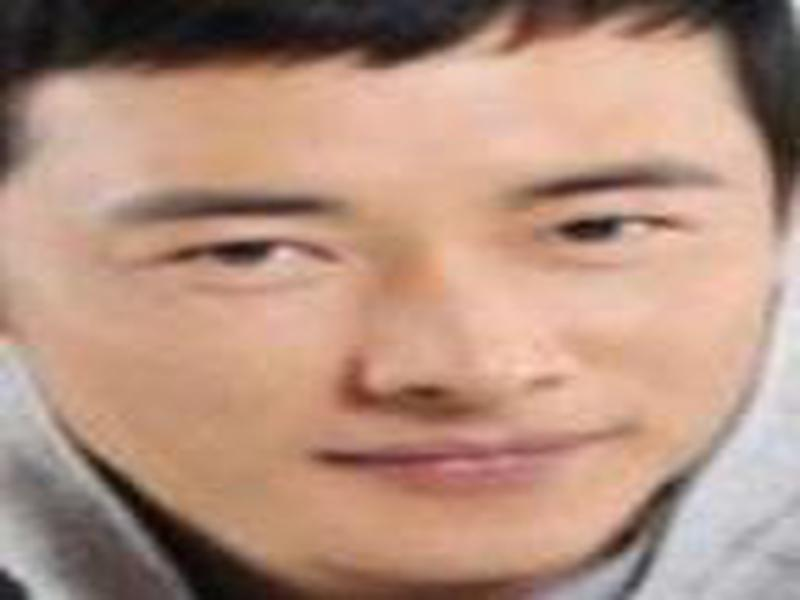without_mask: (8, 57, 766, 585)
